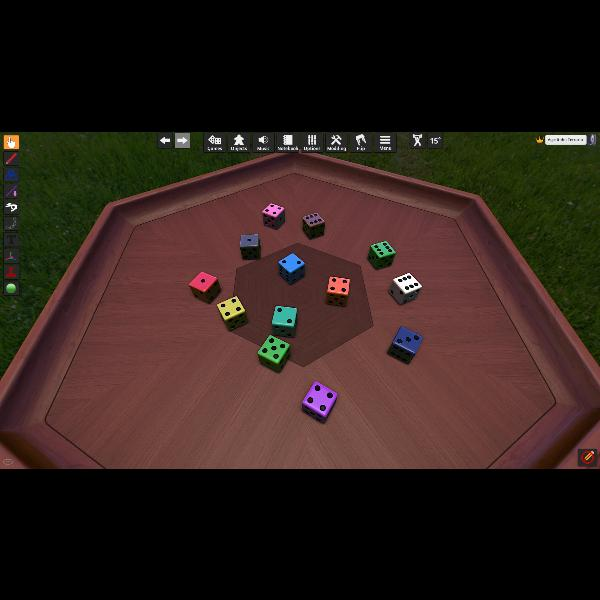d6: (301, 382, 336, 423), (388, 326, 423, 364), (258, 334, 290, 372), (217, 295, 247, 330), (388, 272, 420, 304), (188, 271, 218, 303), (271, 306, 297, 338), (278, 252, 304, 284), (368, 240, 394, 270), (326, 275, 350, 305), (262, 202, 286, 230), (302, 212, 324, 238), (240, 234, 260, 260)
